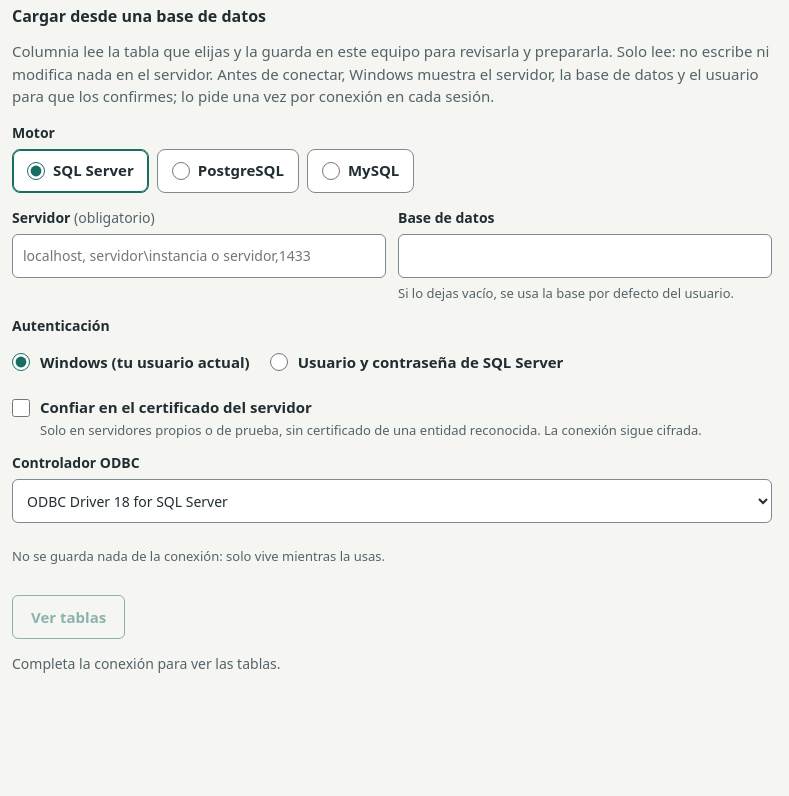
Scenario: DatabaseImportPanel › tras «Ver tablas» el foco pasa a la lista de tablas y el resultado se anuncia en un estado persistente
Expected: the dropdown labelled "Controlador ODBC" shows "ODBC Driver 18 for SQL Server", [12, 479, 772, 523]
Type "localhost" into the field labelled "Servidor" at (199, 256), box [12, 234, 386, 278]
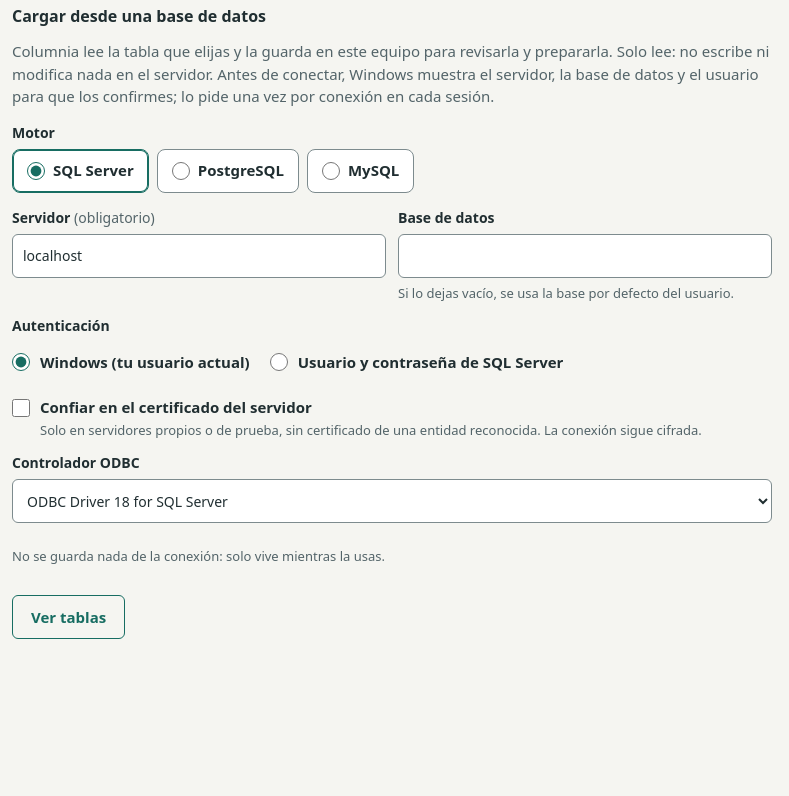
Type "VentasRetail" into the field labelled "Base de datos" at (585, 256), box [398, 234, 772, 278]
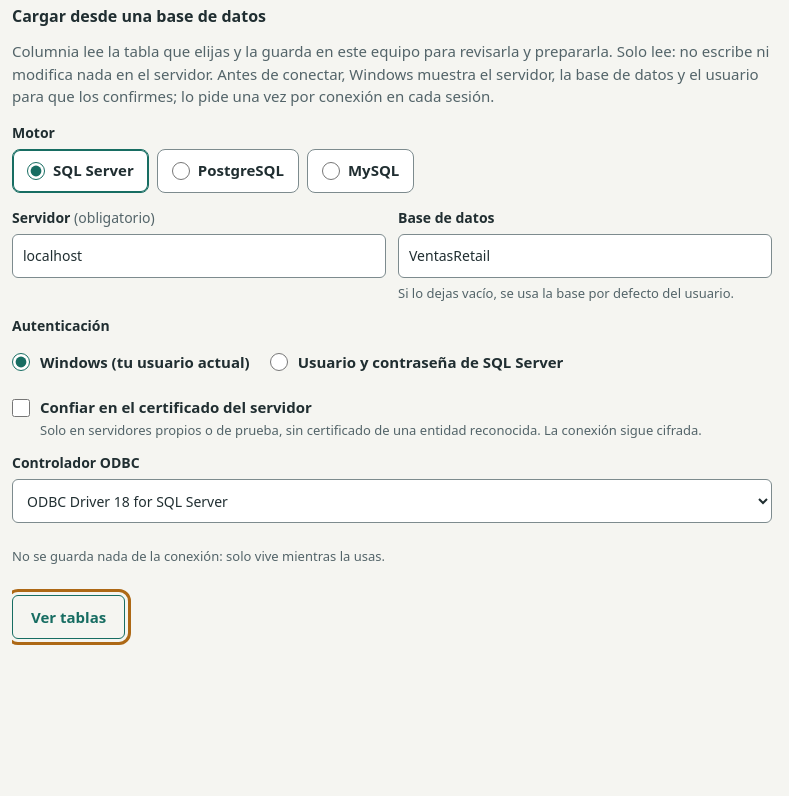
Click the button "Ver tablas" at (69, 617), box [12, 594, 125, 639]
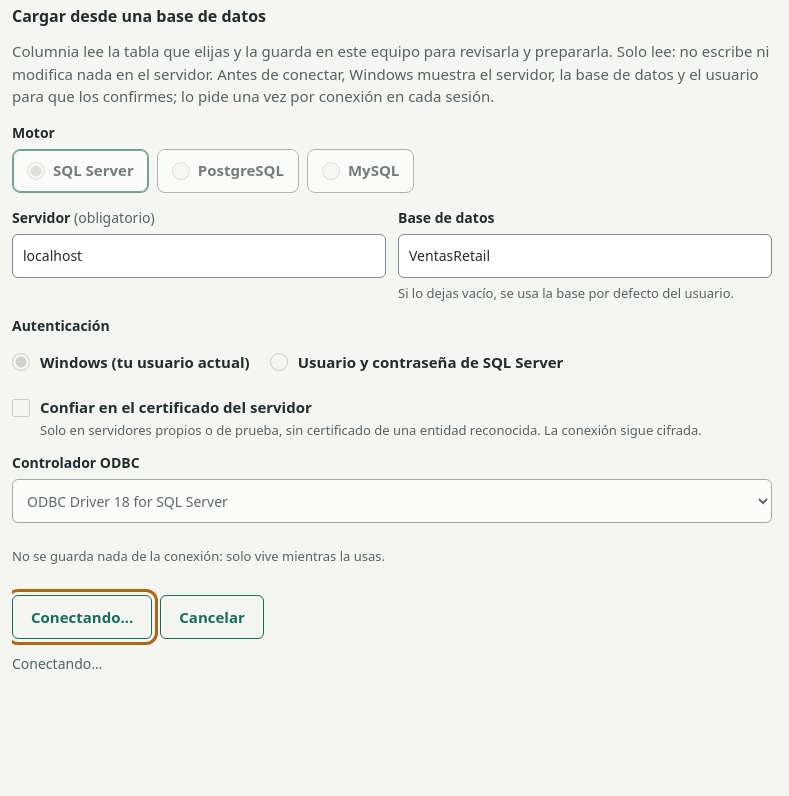
Result: the message reads "Conectando…" at [12, 654, 102, 673]
Click the button named "Ver tablas" at (82, 617), box [12, 594, 152, 639]
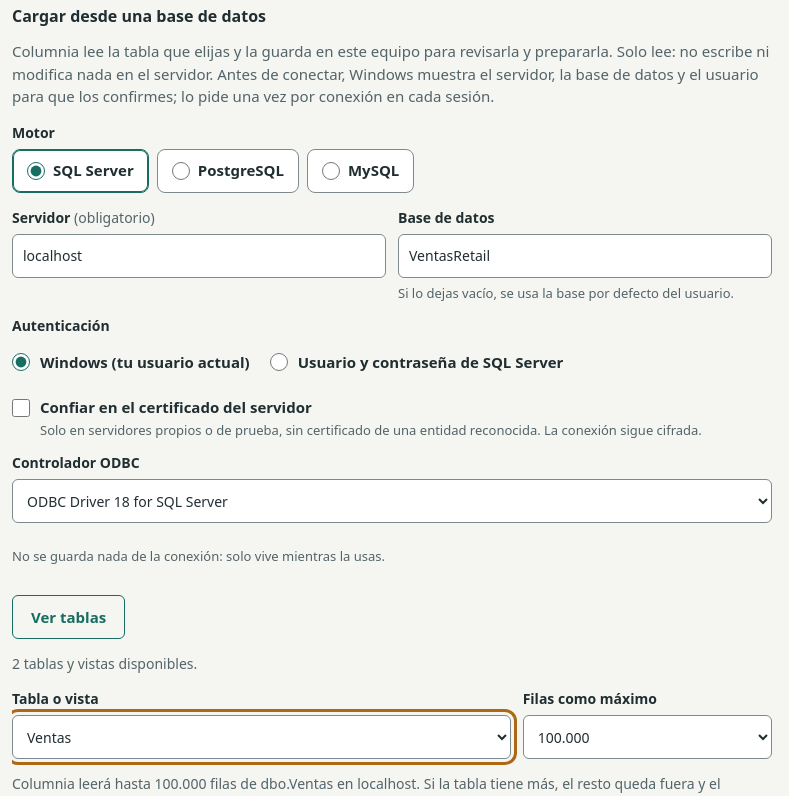
Result: the message reads "2 tablas y vistas disponibles." at [12, 654, 197, 673]
